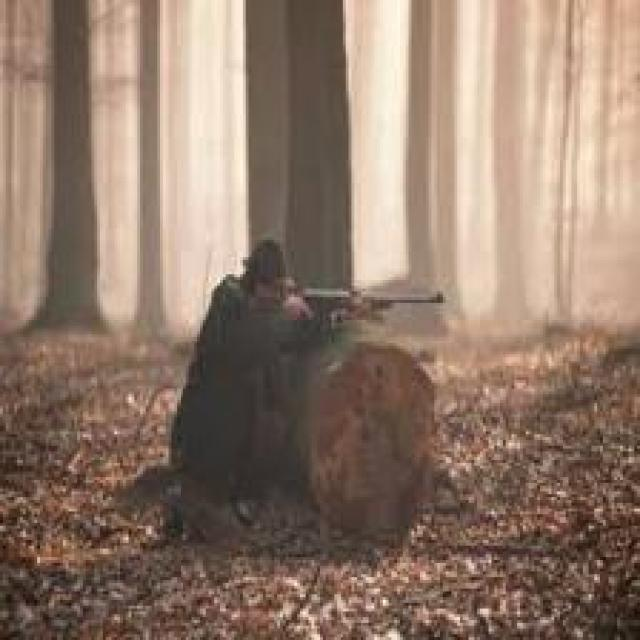Rifle: (291, 279, 466, 327)
